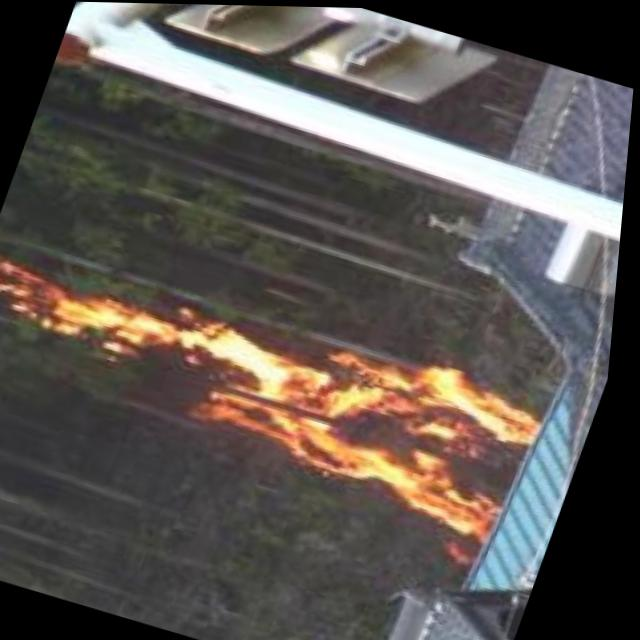Fire: (0, 220, 574, 544)
